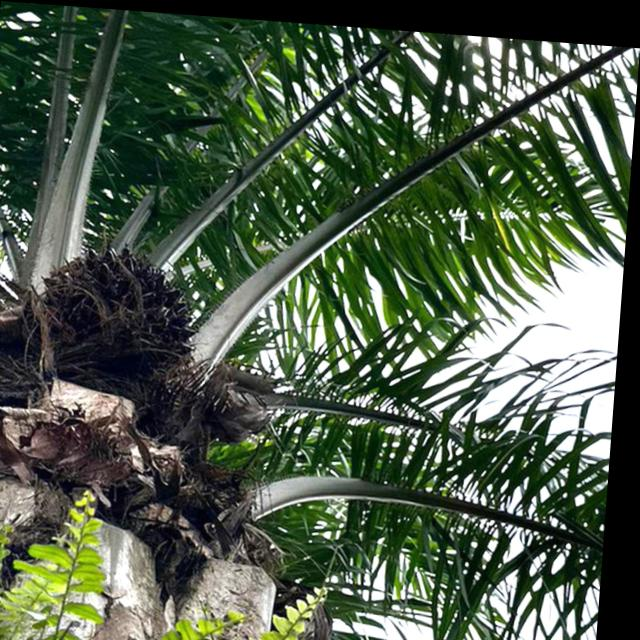ripe: (34, 237, 199, 371)
